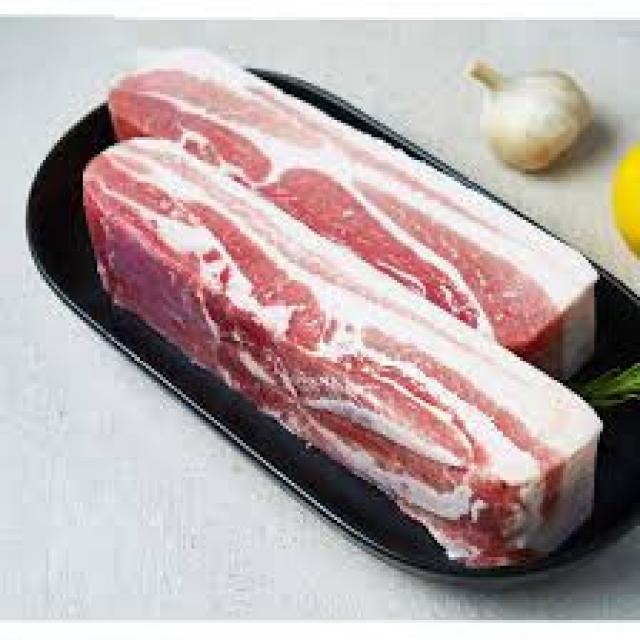pork: (86, 138, 603, 570), (106, 47, 601, 385)
